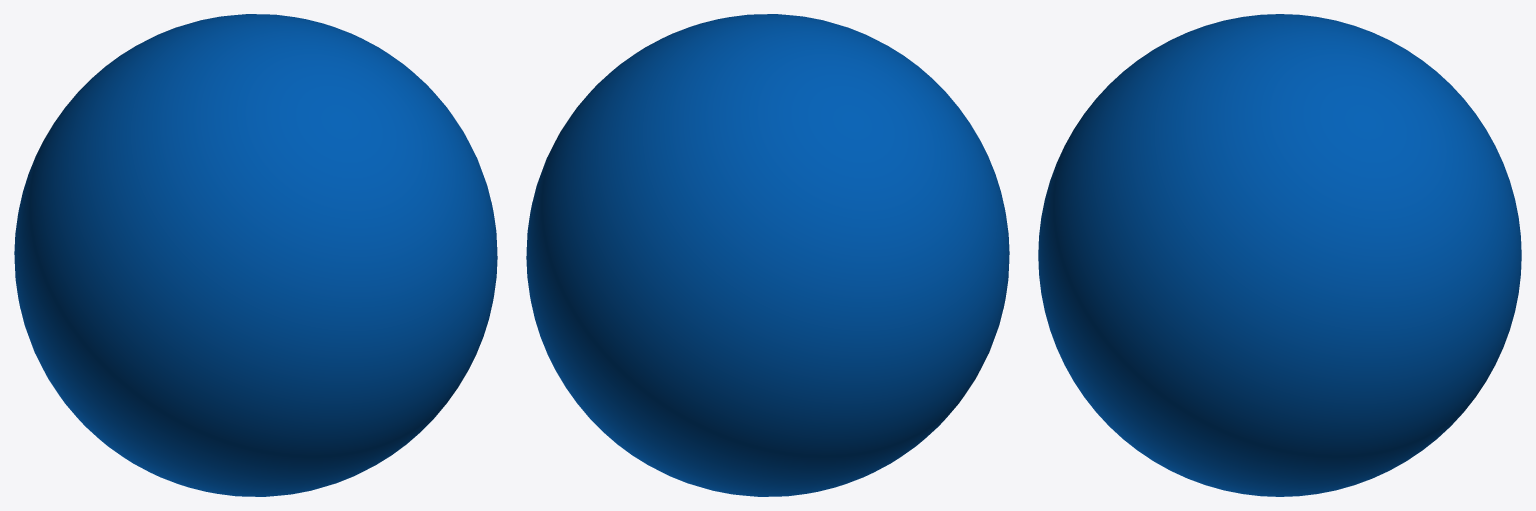
Rendered from ball-dotted-005cb1.glb.
3 renders of one model, left to right at view 1: azimuth 30°, elevation 25°; view 2: azimuth 150°, elevation 25°; view 3: azimuth 270°, elevation 25°, orthographic.
Visible parts, largest first — view 1: ball; view 2: ball; view 3: ball.
Boxes of the visible parts, x1,y1,x2,y2 form: ball: [14, 14, 497, 496]; ball: [526, 14, 1009, 496]; ball: [1038, 14, 1521, 496].
Size of the model in its own units: 0.0655 by 0.0655 by 0.0655.
